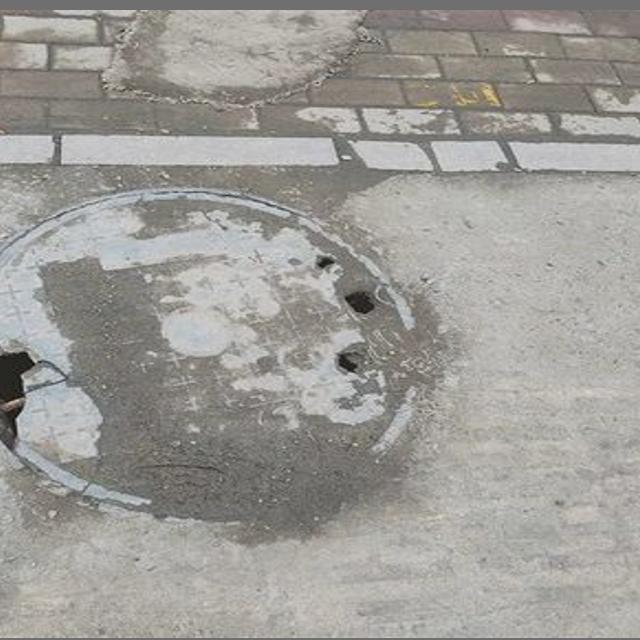broke: (0, 177, 462, 538)
